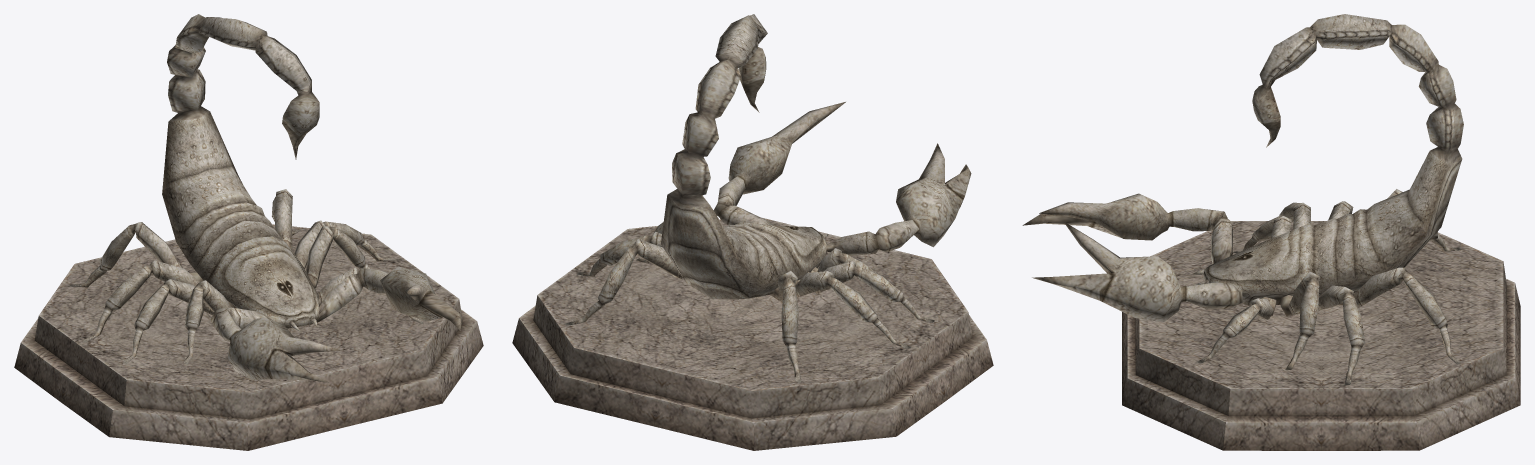
File: scorpionStatue.dae
The picture shows the model from 3 angles, left to right: view 1: azimuth 30°, elevation 25°; view 2: azimuth 150°, elevation 25°; view 3: azimuth 270°, elevation 25°; orthographic projection. The views are drawn at different scales.
Visible parts, largest first — view 1: ScorpionStatue; view 2: ScorpionStatue; view 3: ScorpionStatue.
Part boxes in pixels (x1=…): ScorpionStatue: x1=14, y1=14, x2=483, y2=450; ScorpionStatue: x1=512, y1=14, x2=993, y2=450; ScorpionStatue: x1=1022, y1=14, x2=1520, y2=450.
Bounding box in the file's own units: 4.12 × 3.46 × 4.58.
Materials: 1 (1 with a texture image).
